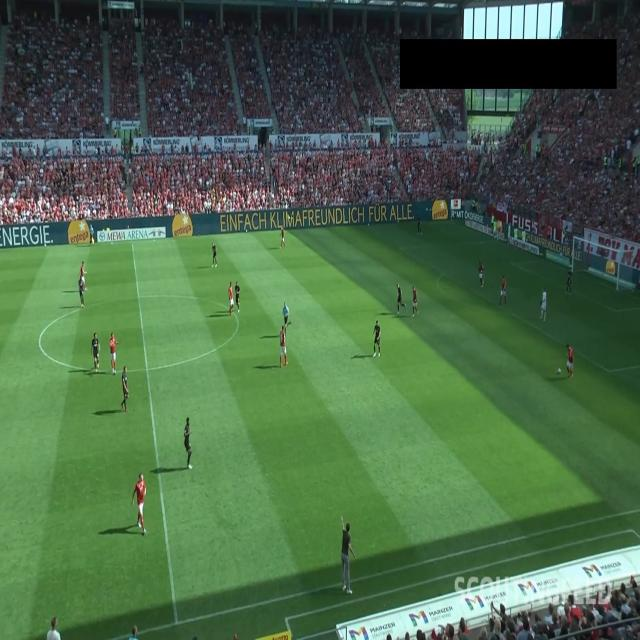ball: (557, 368, 561, 374)
